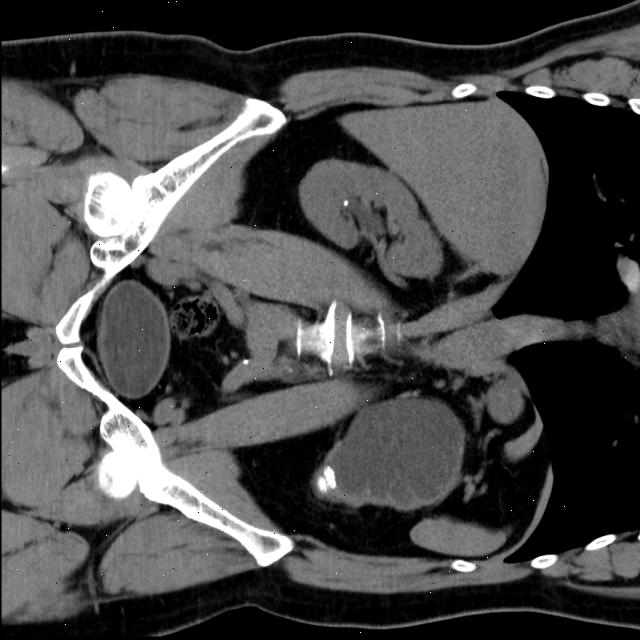kidneystone: (317, 467, 335, 494)
